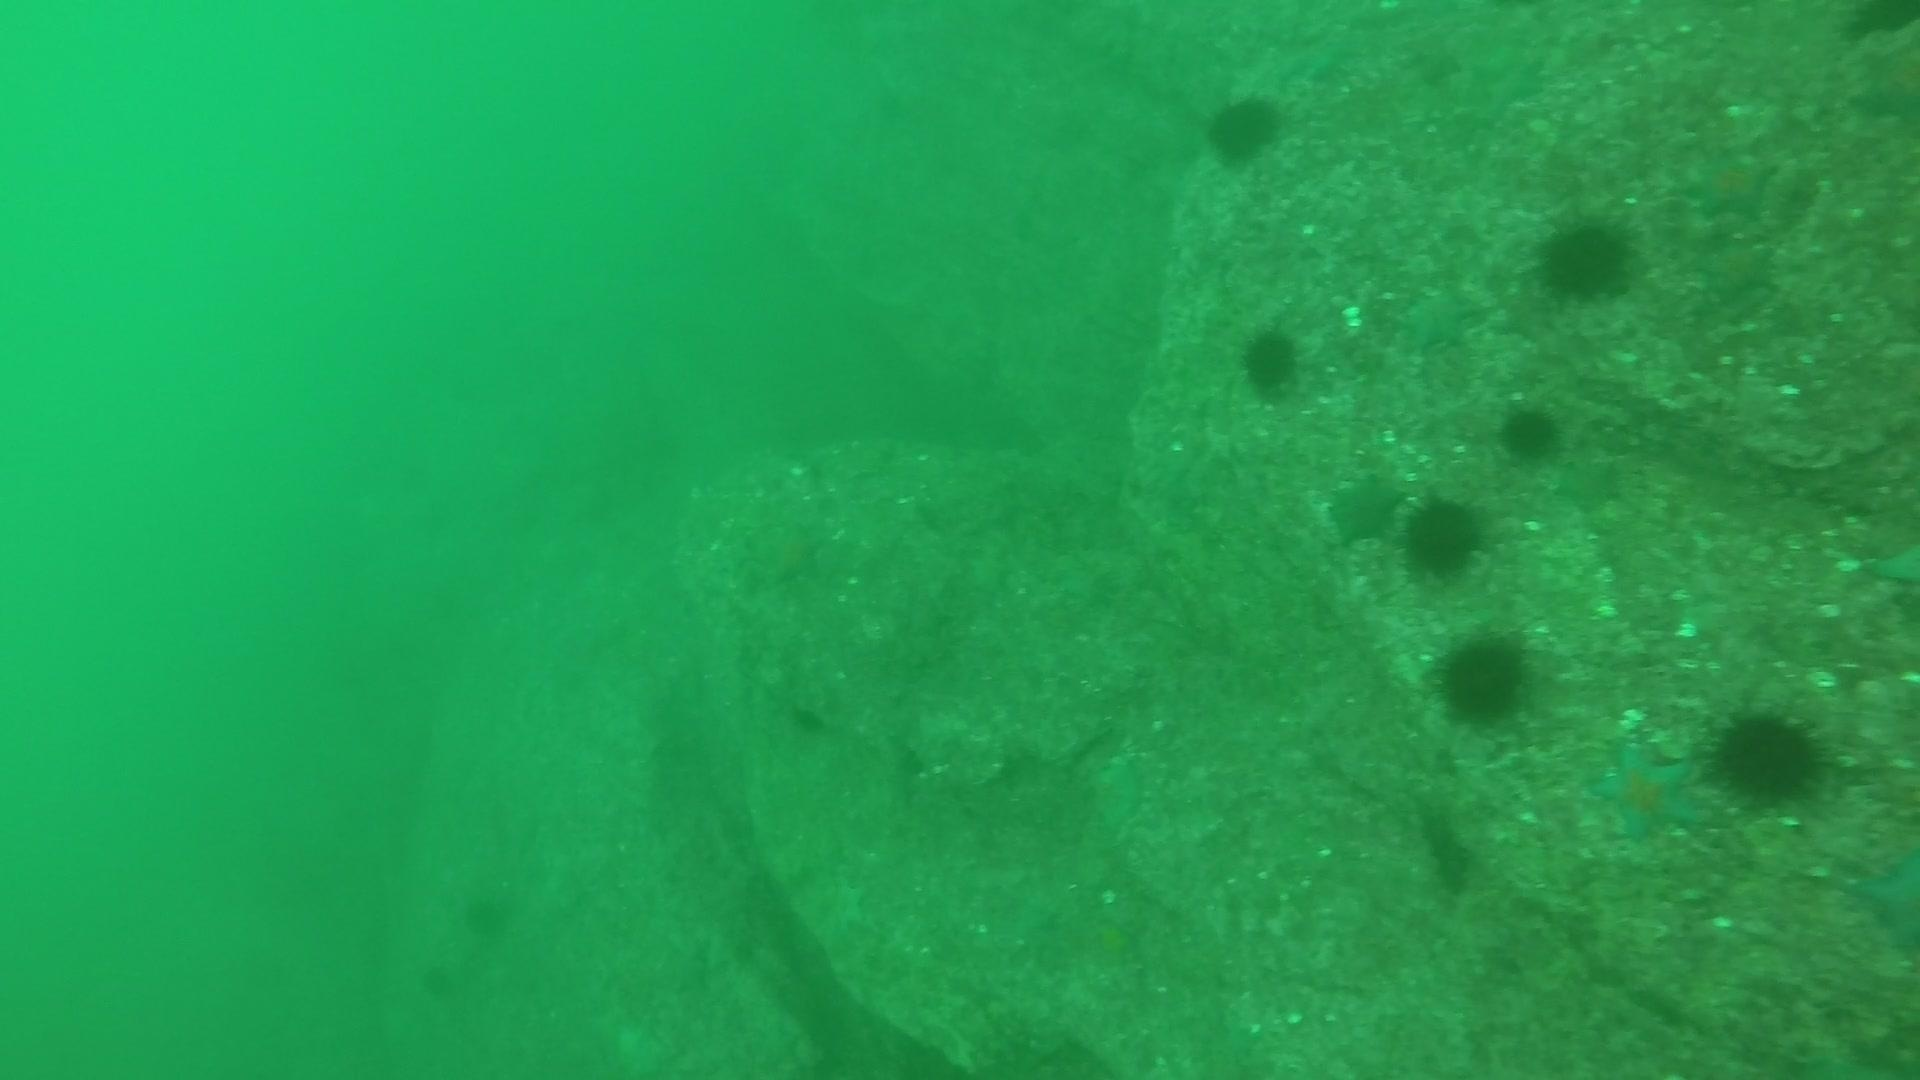echinus: (1706, 702, 1832, 811), (1428, 626, 1538, 731), (1531, 208, 1640, 306), (1395, 489, 1491, 582), (1201, 88, 1287, 167), (1234, 320, 1309, 401), (1494, 397, 1568, 465), (1836, 0, 1920, 45), (456, 882, 520, 942)
starfish: (1584, 735, 1709, 847), (1846, 843, 1920, 964), (1679, 145, 1779, 224), (741, 510, 832, 591), (1323, 465, 1408, 547), (1394, 280, 1482, 356), (1688, 236, 1782, 307), (1549, 451, 1629, 513), (1849, 65, 1919, 131), (1857, 535, 1920, 589)
